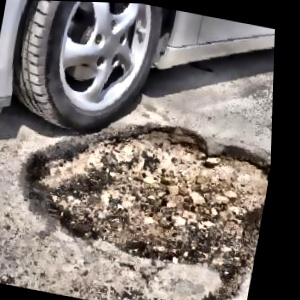pothole: (9, 96, 273, 282)
